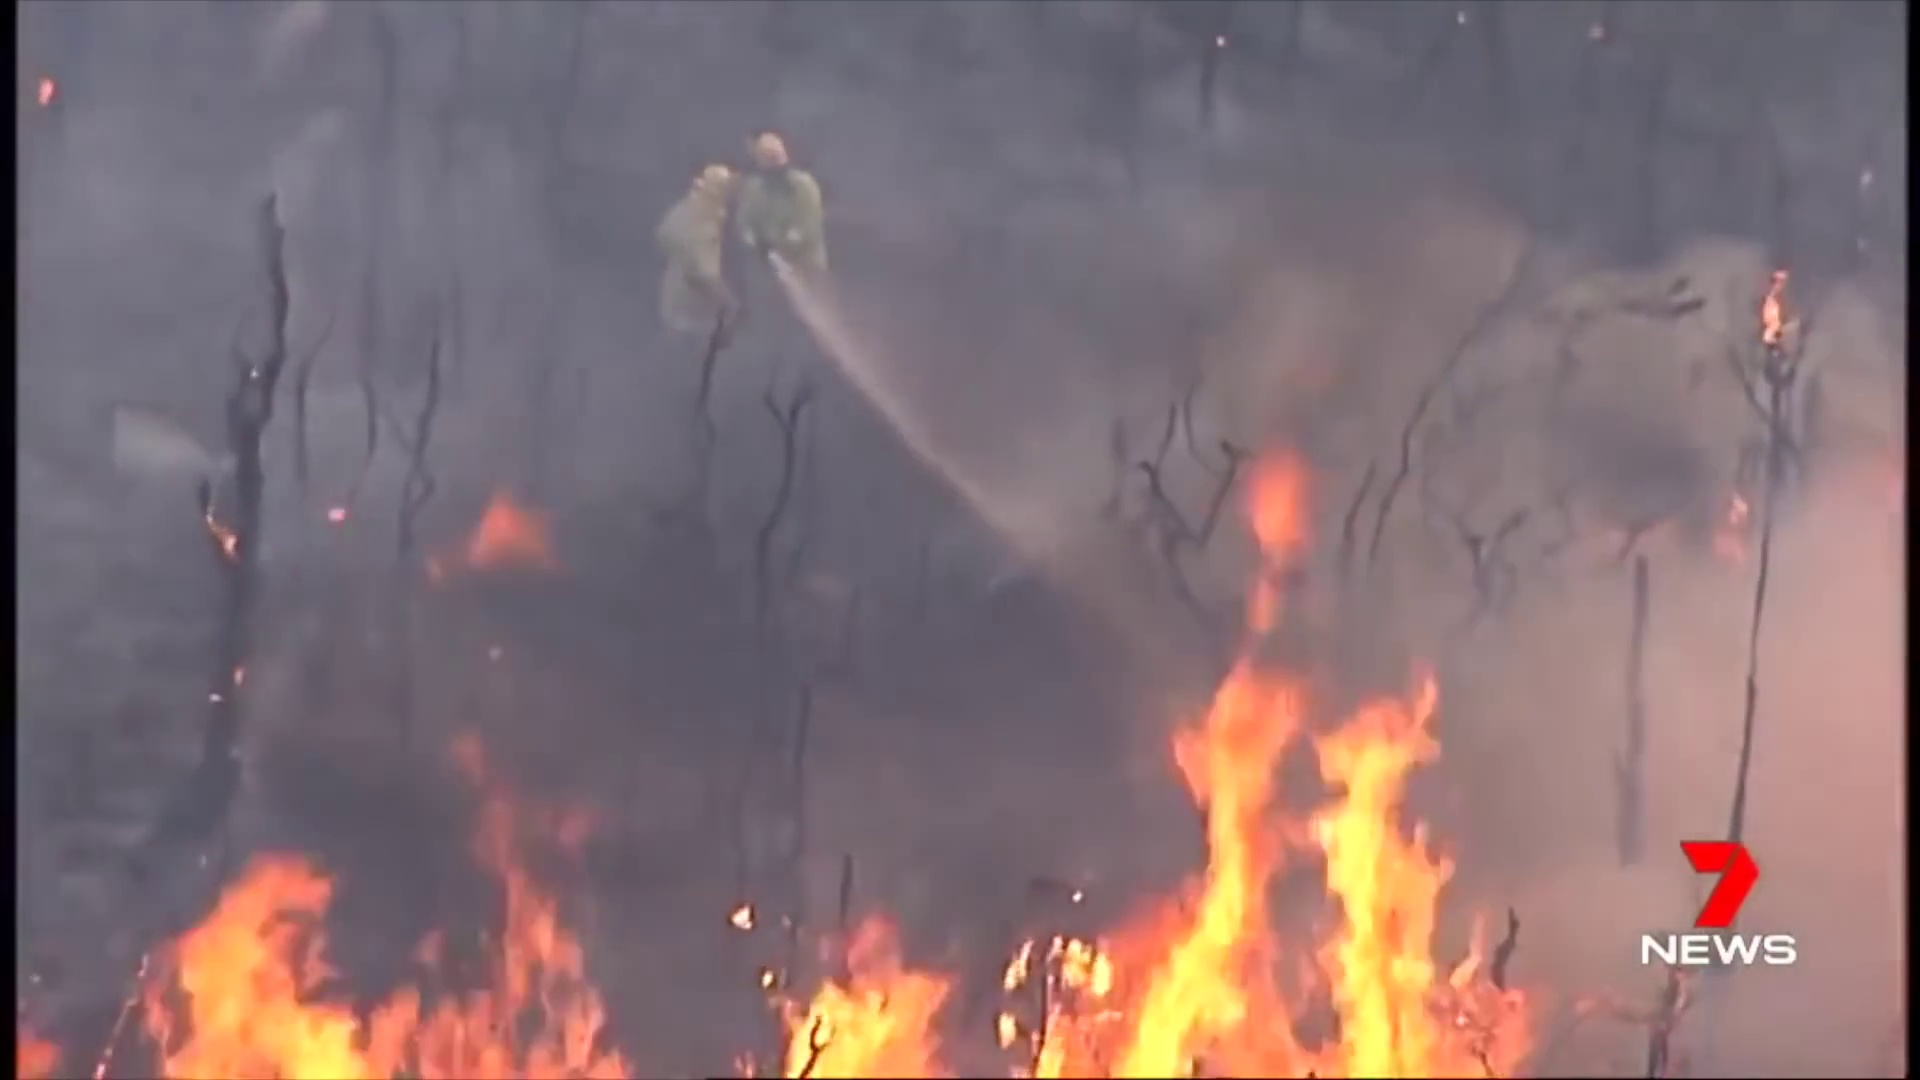fire: (998, 671, 1526, 1080), (371, 902, 600, 1080), (185, 864, 353, 1080), (786, 917, 945, 1080)
